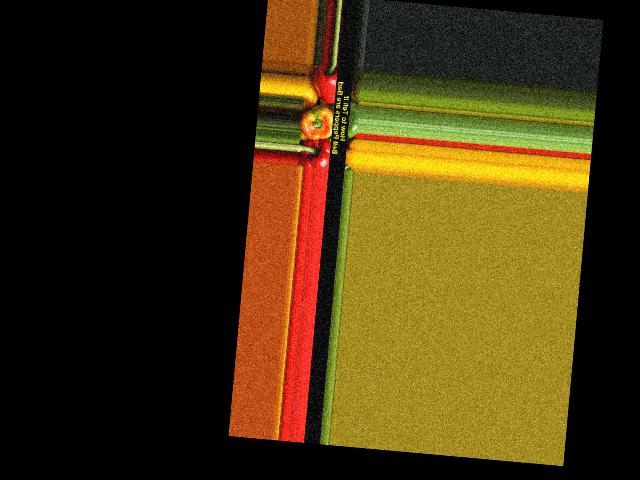bell_pepper: (296, 134, 333, 168)
